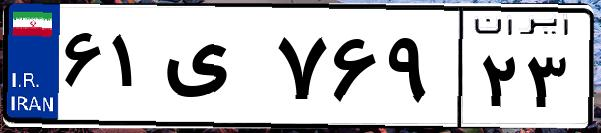1: (110, 28, 158, 98)
2: (475, 38, 525, 113)
3: (525, 38, 570, 115)
6: (330, 28, 385, 110), (57, 26, 110, 100)
7: (270, 28, 330, 110)
9: (385, 28, 445, 110)
ی: (158, 20, 270, 120)
